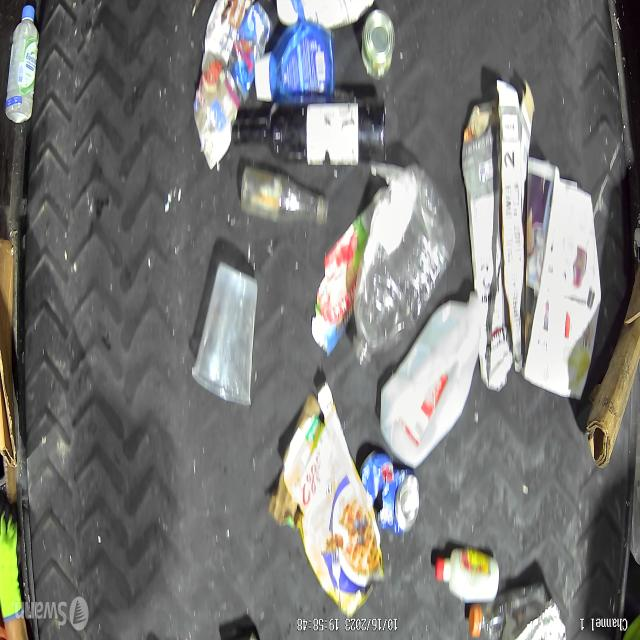can: (357, 435, 423, 533), (360, 8, 396, 82)
milk_jug: (379, 286, 485, 469)
plastic_bottle: (353, 162, 454, 368), (467, 583, 549, 640), (6, 0, 43, 124)
